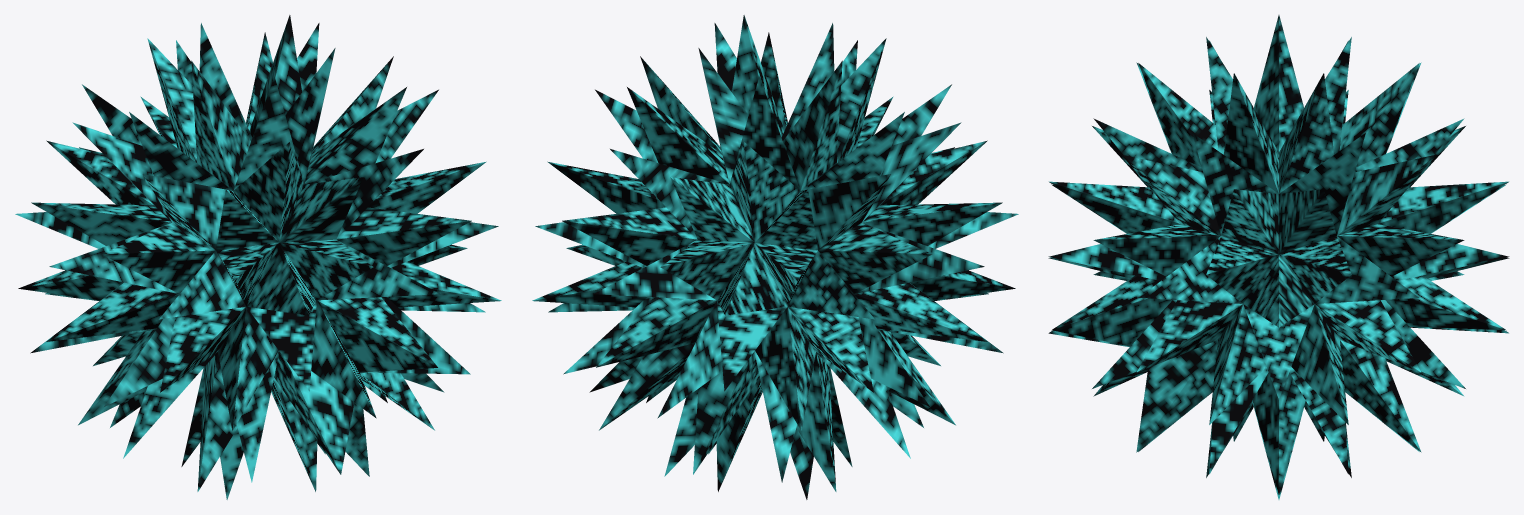
Rendered from Pr_ice.fbx.
The picture shows the model from 3 angles, left to right: view 1: azimuth 30°, elevation 25°; view 2: azimuth 150°, elevation 25°; view 3: azimuth 270°, elevation 25°; orthographic projection.
Parts seen in each view (by area): view 1: Pl_ice; view 2: Pl_ice; view 3: Pl_ice.
Boxes of the visible parts, x1,y1,x2,y2 form: Pl_ice: (15,15,501,499); Pl_ice: (532,15,1018,499); Pl_ice: (1048,15,1509,499).
Size of the model in its own units: 419 by 402 by 399.
Materials: 1 (1 with a texture image).
